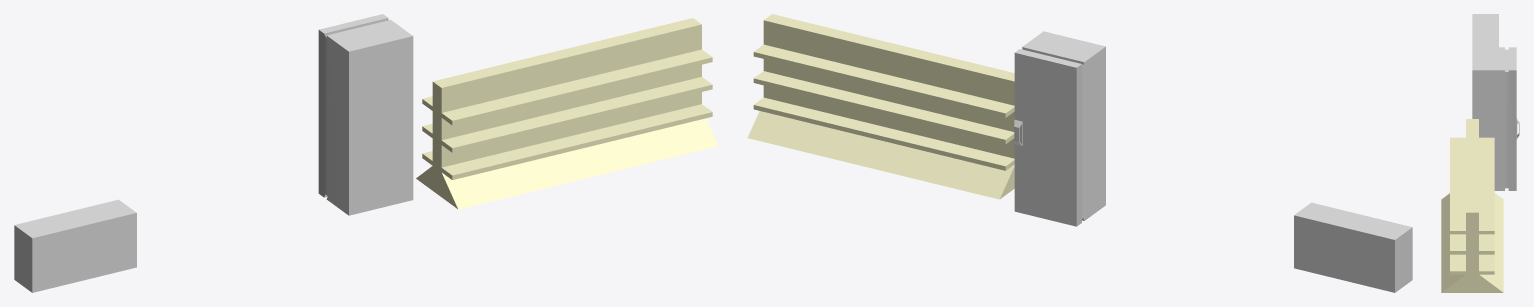
The model's file is shelves.fbx.
3 renders of one model, left to right at view 1: azimuth 30°, elevation 25°; view 2: azimuth 150°, elevation 25°; view 3: azimuth 270°, elevation 25°, orthographic. The views are drawn at different scales.
Visible parts, largest first — view 1: aisle shelf, fridge, Cube; view 2: aisle shelf, fridge, Cube; view 3: aisle shelf, fridge, Cube.
Part boxes in pixels (x1,y1,x2,y2): aisle shelf: (416, 18, 718, 209); fridge: (318, 14, 413, 215); Cube: (14, 199, 136, 292); aisle shelf: (747, 14, 1014, 199); fridge: (1014, 31, 1105, 226); Cube: (1294, 202, 1412, 292); aisle shelf: (1441, 119, 1503, 292); fridge: (1472, 47, 1519, 190); Cube: (1472, 14, 1498, 47).
Size of the model in its own units: 1274 by 300 by 176.
